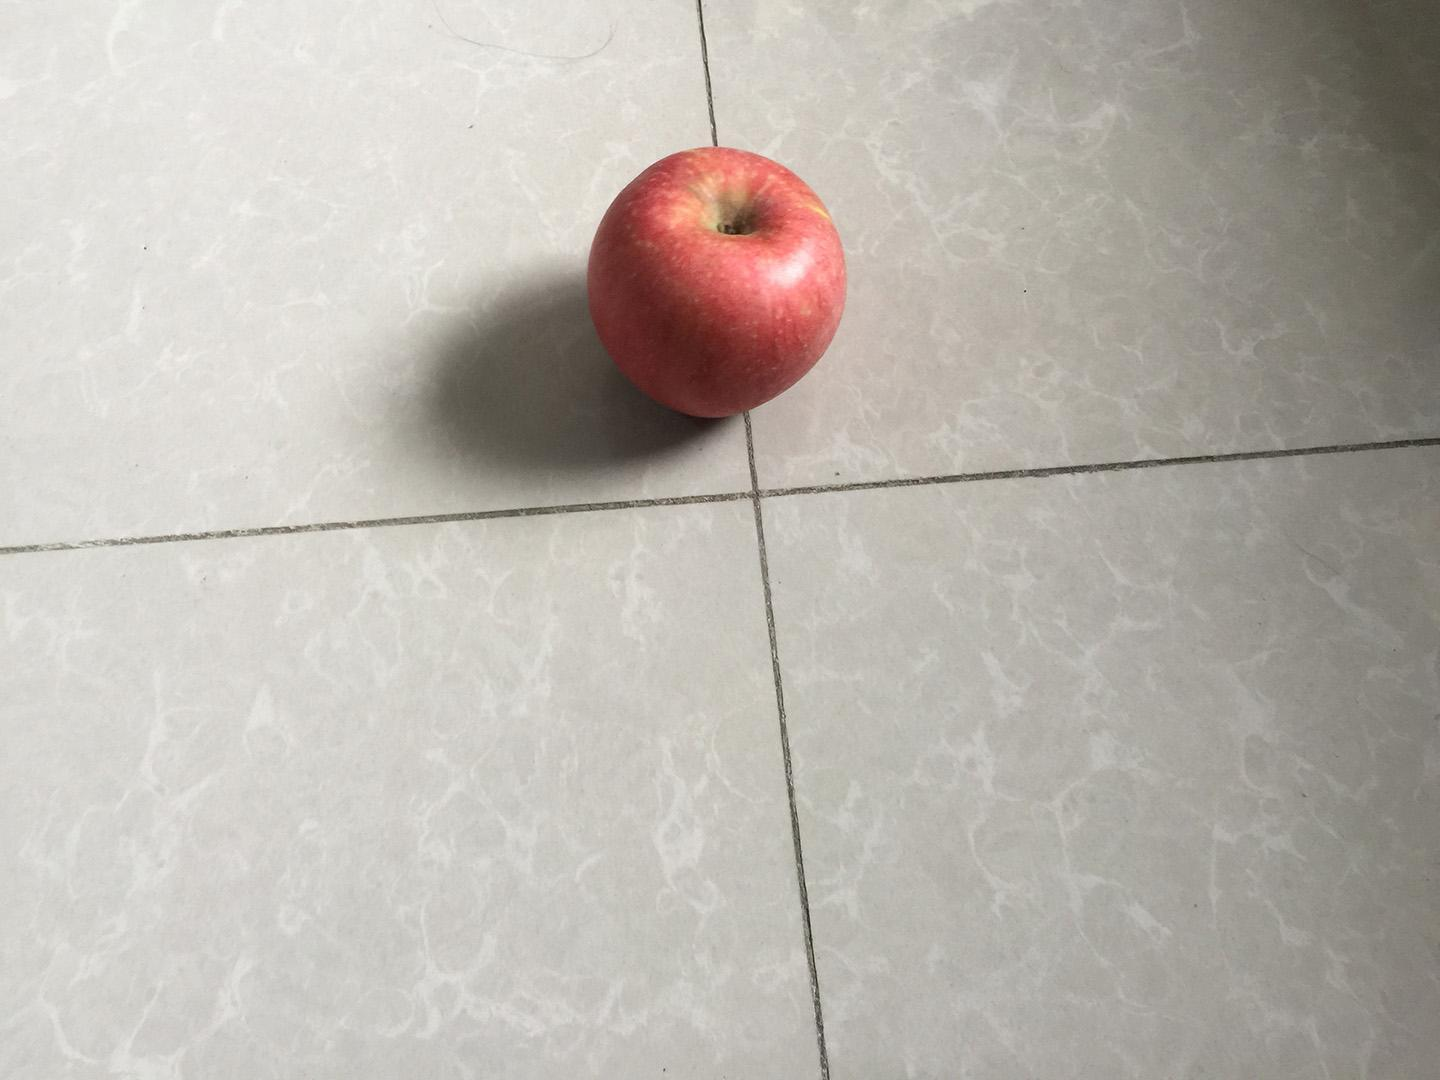apple: (581, 134, 854, 423)
